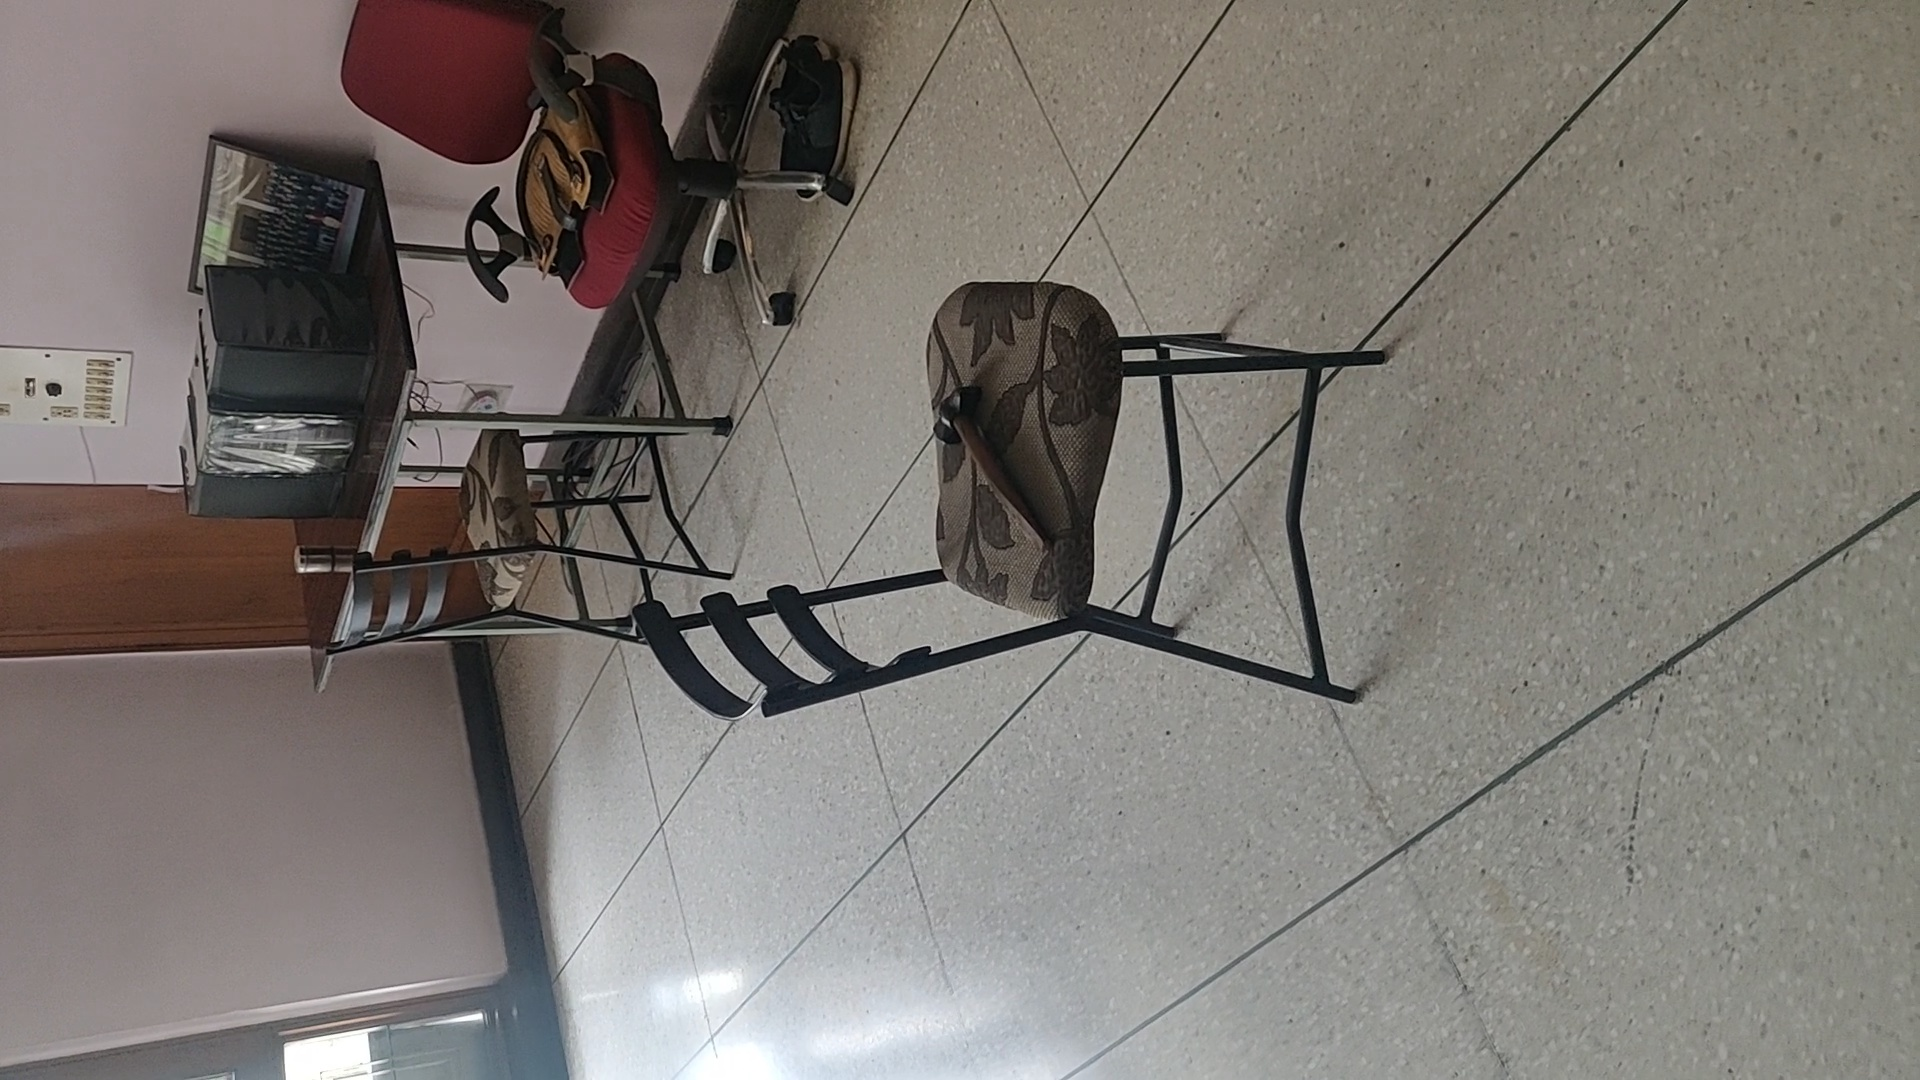hammer: (934, 386, 1042, 549)
